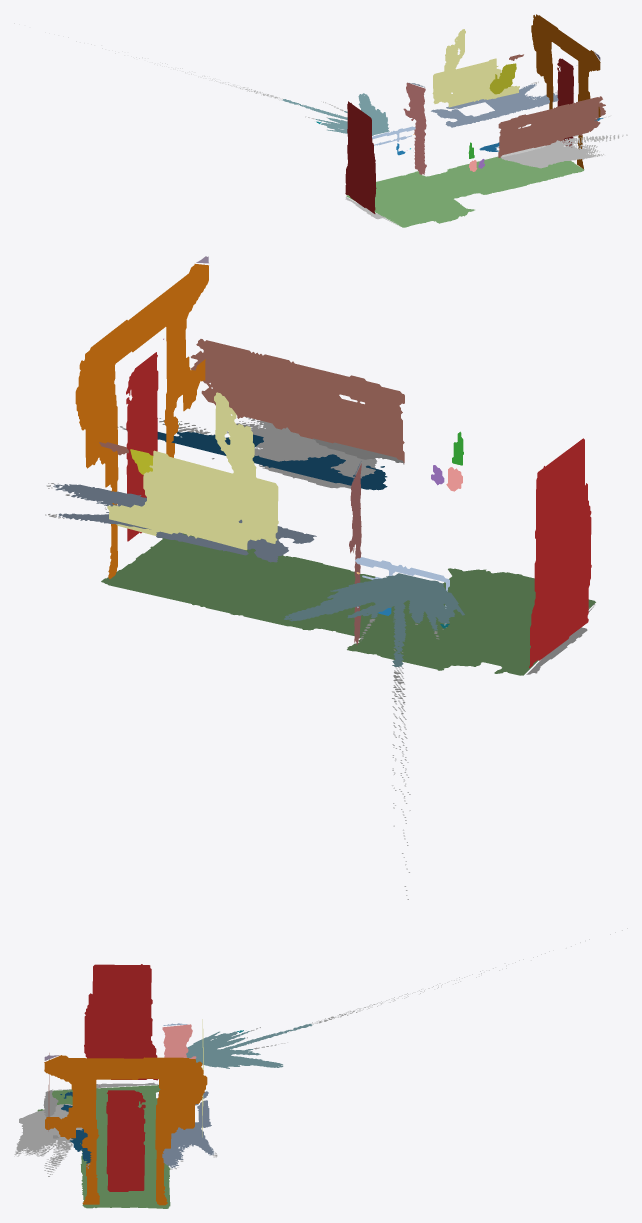
File: ours.glb
The picture shows the model from 3 angles, top to bottom: view 1: azimuth 30°, elevation 25°; view 2: azimuth 150°, elevation 25°; view 3: azimuth 270°, elevation 25°; orthographic projection. The views are drawn at different scales.
Parts seen in each view (by area): view 1: Node1; view 2: Node1; view 3: Node1.
Part boxes in pixels (box(x1,y1,x2,y2)): Node1: box(14, 14, 627, 227); Node1: box(45, 256, 595, 899); Node1: box(14, 928, 627, 1208).
Bounding box in the file's own units: 7.92 × 2.58 × 9.42.
